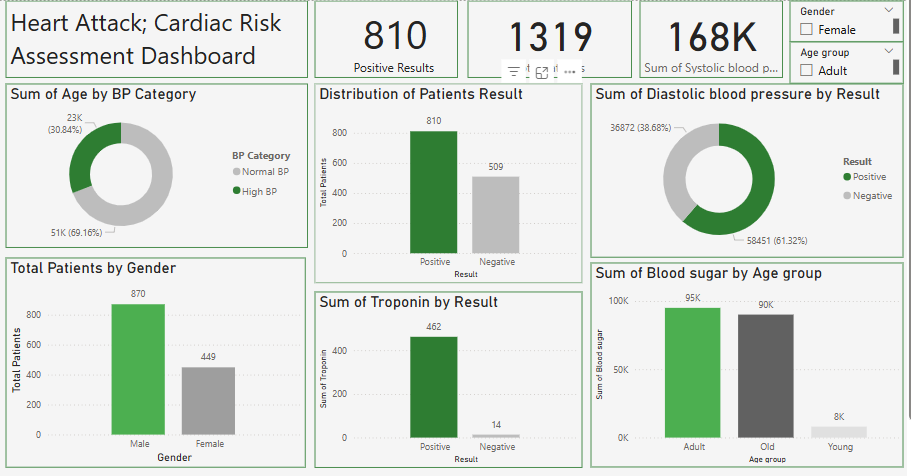

What the dashboard file says about the page in this screenshot:
{"tool":"powerbi","page":{"name":"DASHBOARD","canvas":[1280,720],"ordinal":0},"visuals":[{"type":"card","fields":{"Values":["Sum(Medicaldataset.Systolic blood pressure)"]},"box":[854.1,0,191.9,102.7],"z":0},{"type":"columnChart","fields":{"Y":["Medicaldataset.Total Patients"],"Category":["Medicaldataset.Gender"]},"box":[9.5,343.2,400,289.2],"z":1000},{"type":"donutChart","fields":{"Y":["Sum(Medicaldataset.Diastolic blood pressure)"],"Category":["Medicaldataset.Result"]},"box":[789.2,110.8,432.4,218.9],"z":2000},{"type":"textbox","box":[9.5,0,402.7,102.7],"z":3000},{"type":"card","fields":{"Values":["Medicaldataset.Total Patients"]},"box":[625.7,0,218.9,102.7],"z":4000},{"type":"columnChart","fields":{"Category":["Medicaldataset.Age group"],"Y":["Sum(Medicaldataset.Blood sugar)"]},"box":[789.2,343.2,432.4,289.2],"z":5000},{"type":"columnChart","title":"Distribution of Patients Result","fields":{"Category":["Medicaldataset.Result"],"Y":["Medicaldataset.Total Patients"]},"box":[421.6,110.8,356.8,266.2],"z":6000},{"type":"columnChart","fields":{"Category":["Medicaldataset.Result"],"Y":["Sum(Medicaldataset.Troponin)"]},"box":[421.6,387.8,356.8,244.6],"z":7000},{"type":"textbox","box":[421.6,0,190.5,102.7],"z":8000},{"type":"donutChart","fields":{"Category":["Medicaldataset.BP Category"],"Y":["Sum(Medicaldataset.Age)"]},"box":[9.5,110.8,402.7,218.9],"z":9000},{"type":"slicer","fields":{"Values":["Medicaldataset.Gender"]},"box":[1055.4,0,166.2,54.1],"z":10000},{"type":"slicer","fields":{"Values":["Medicaldataset.Age group"]},"box":[1055.4,54.1,166.2,56.8],"z":12000},{"type":"textbox","box":[467.6,73,158.1,36.5],"z":13000}]}

Visuals, with their boxes on the page's 1280x720 design canvas (x1, y1, x2, y2). These are canvas units, not pixel positions in the 911x476 screenshot, which may show the page scaled, cropped or inside an application window:
card - Sum(Medicaldataset.Systolic blood pressure): region(854, 0, 1046, 103)
columnChart - Medicaldataset.Total Patients x Medicaldataset.Gender: region(10, 343, 410, 632)
donutChart - Sum(Medicaldataset.Diastolic blood pressure) x Medicaldataset.Result: region(789, 111, 1222, 330)
textbox: region(10, 0, 412, 103)
card - Medicaldataset.Total Patients: region(626, 0, 845, 103)
columnChart - Medicaldataset.Age group x Sum(Medicaldataset.Blood sugar): region(789, 343, 1222, 632)
"Distribution of Patients Result" columnChart: region(422, 111, 778, 377)
columnChart - Medicaldataset.Result x Sum(Medicaldataset.Troponin): region(422, 388, 778, 632)
textbox: region(422, 0, 612, 103)
donutChart - Medicaldataset.BP Category x Sum(Medicaldataset.Age): region(10, 111, 412, 330)
slicer - Medicaldataset.Gender: region(1055, 0, 1222, 54)
slicer - Medicaldataset.Age group: region(1055, 54, 1222, 111)
textbox: region(468, 73, 626, 110)
